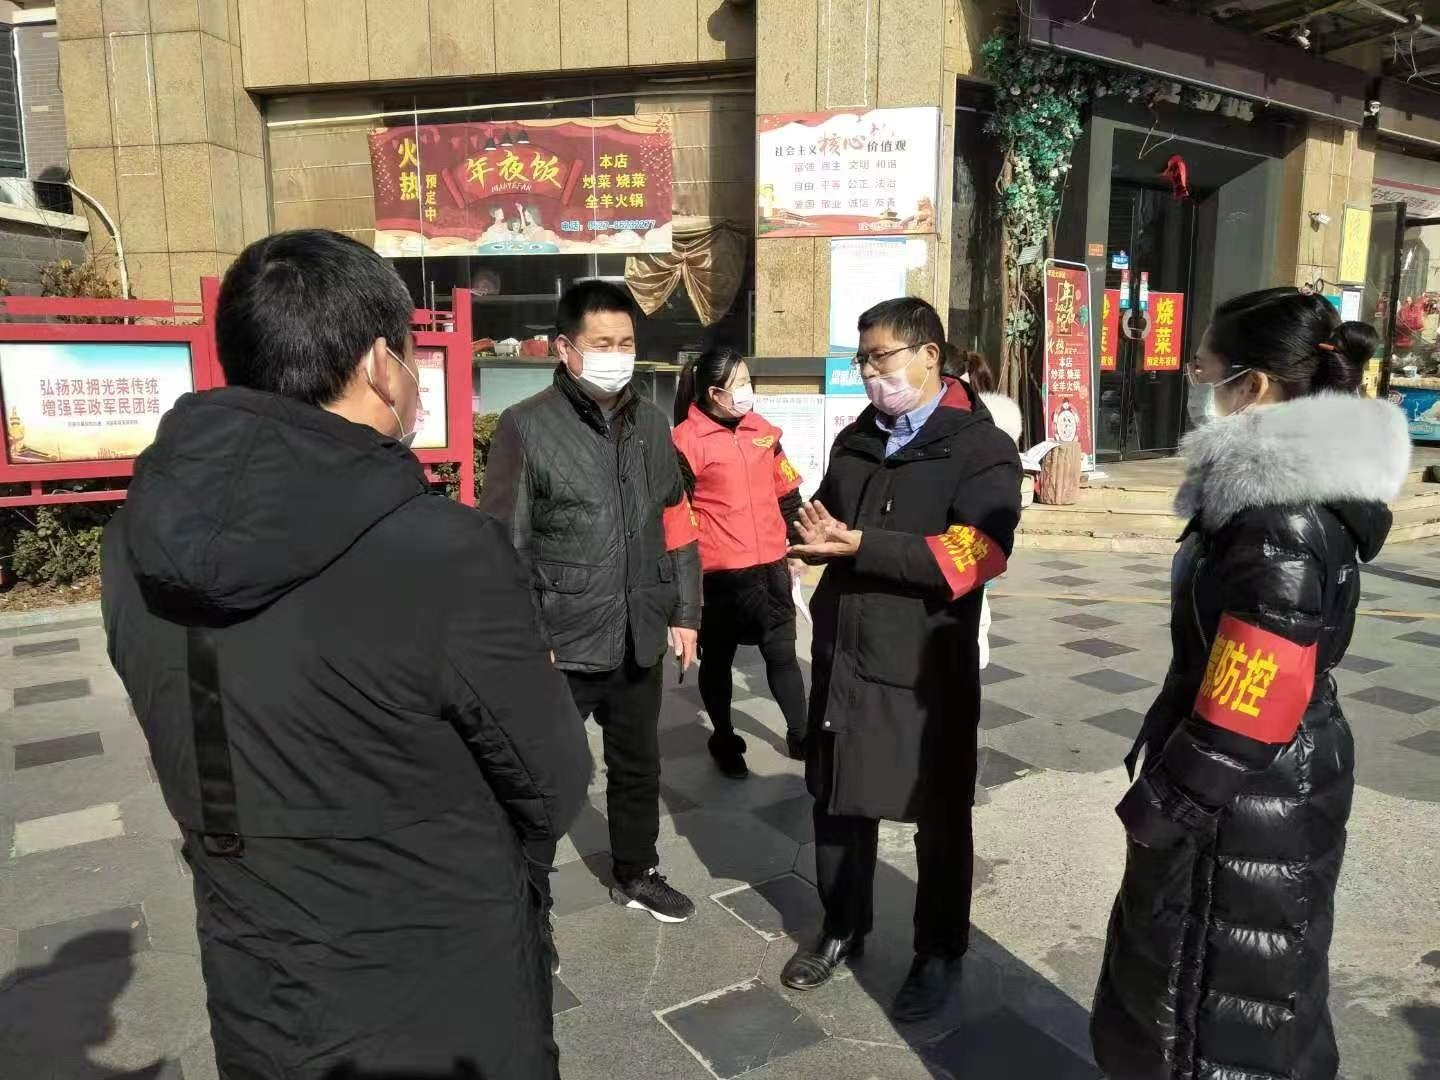correctlyWear: (350, 312, 421, 454), (1186, 337, 1272, 438), (554, 317, 637, 399), (705, 372, 756, 421)
incorrectlyWear: (852, 331, 942, 414)
